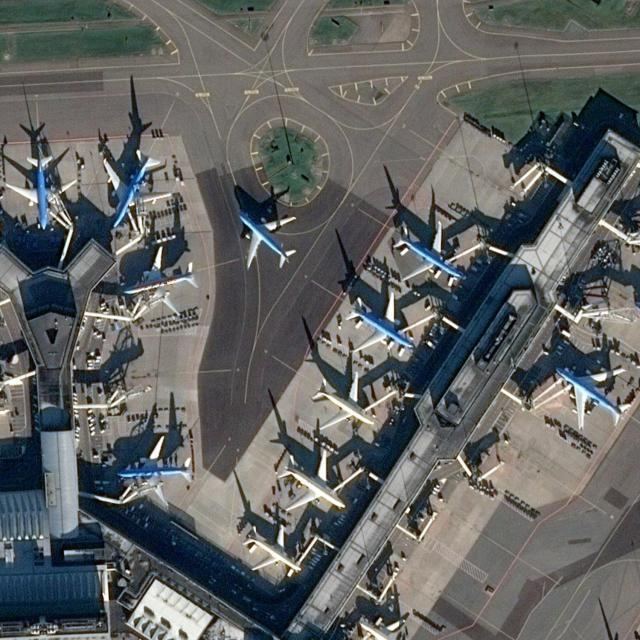Aircraft: (101, 148, 172, 228), (4, 151, 76, 229), (115, 434, 193, 504), (121, 246, 199, 314), (553, 363, 632, 429), (391, 219, 466, 283), (275, 448, 347, 512), (343, 290, 415, 354), (309, 370, 377, 430), (236, 208, 298, 270), (241, 523, 302, 574), (356, 615, 418, 640)
